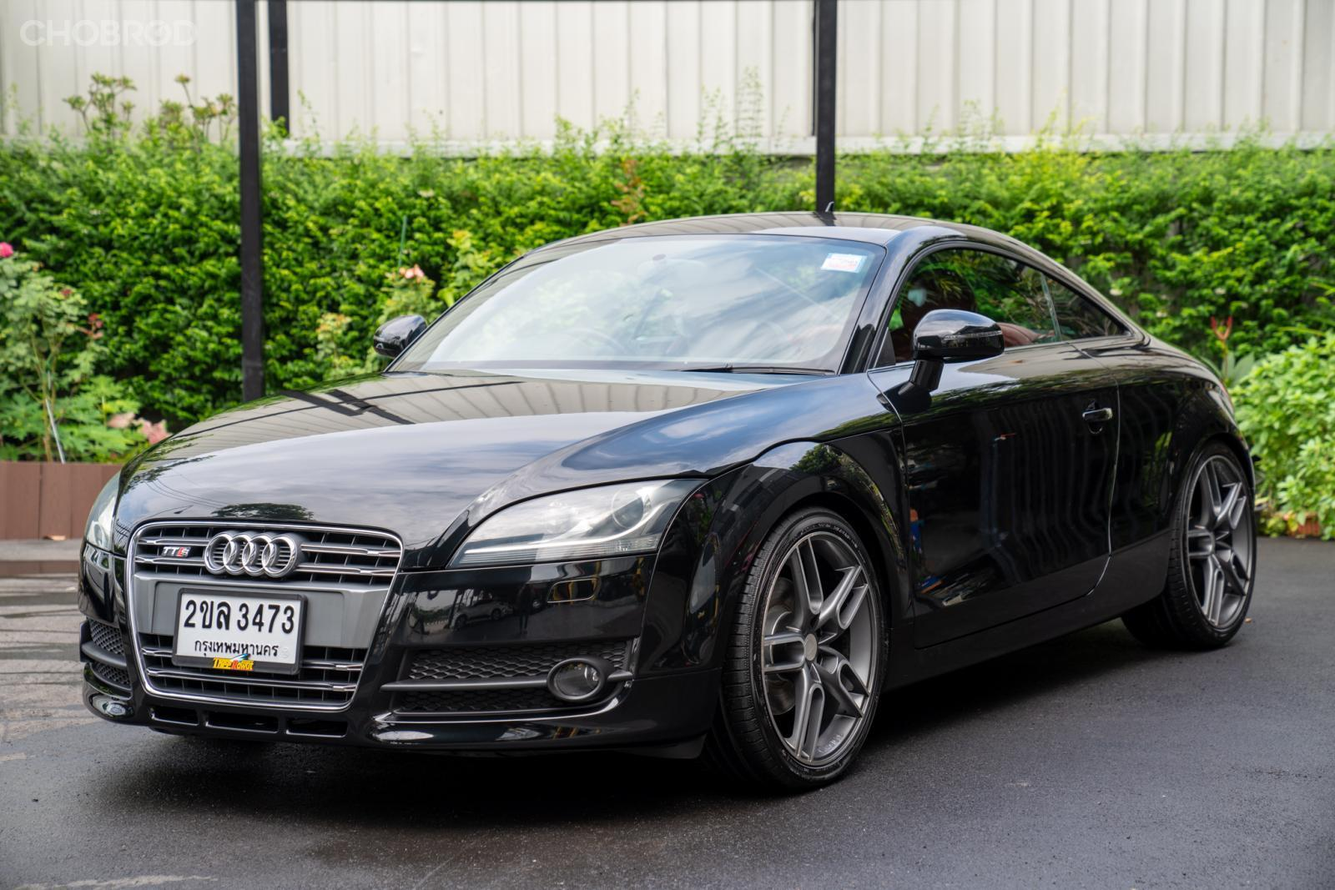license-plate: (170, 578, 306, 677)
